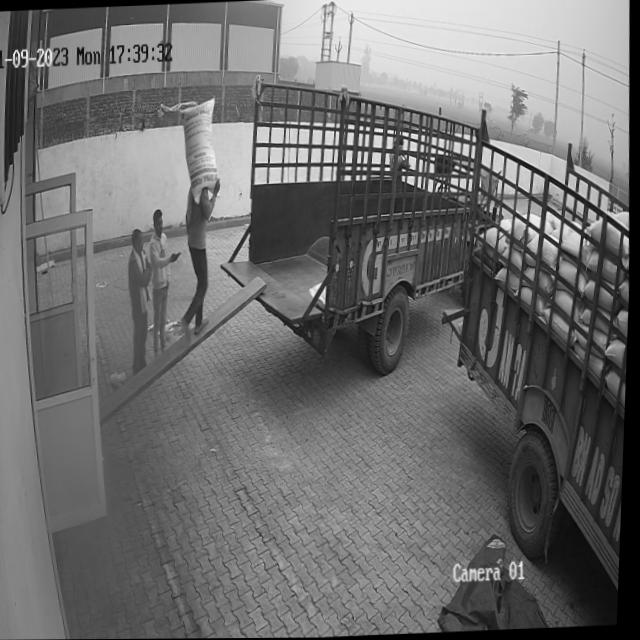sack: (178, 98, 221, 205)
